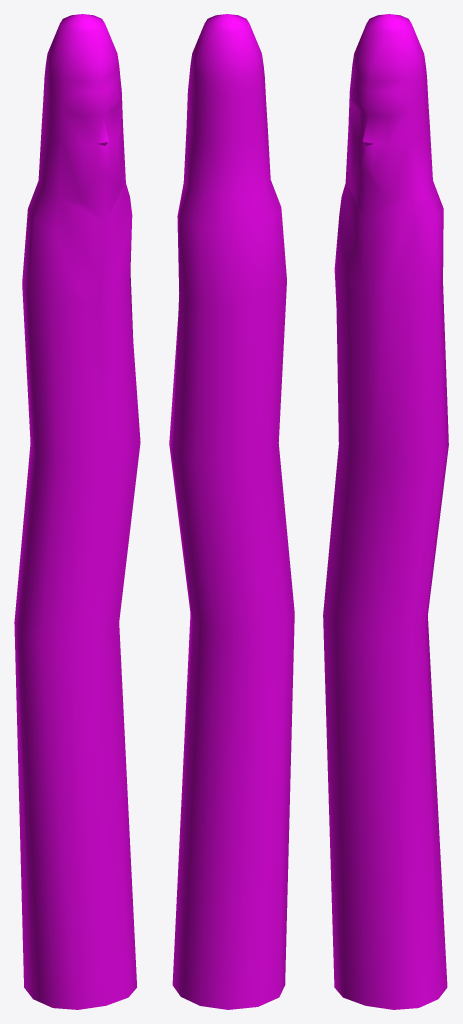
File: goth_cult_statue.glb
3 renders of one model, left to right at view 1: azimuth 30°, elevation 25°; view 2: azimuth 210°, elevation 25°; view 3: azimuth 330°, elevation 25°, orthographic.
Visible parts, largest first — view 1: Gaul_CultStatue_LP_001-mesh; view 2: Gaul_CultStatue_LP_001-mesh; view 3: Gaul_CultStatue_LP_001-mesh.
Boxes of the visible parts, box(x1,y1,x2,y2) form: Gaul_CultStatue_LP_001-mesh: box(14, 14, 140, 1009); Gaul_CultStatue_LP_001-mesh: box(169, 14, 294, 1009); Gaul_CultStatue_LP_001-mesh: box(323, 14, 448, 1009).
Size of the model in its own units: 2.07 by 16.33 by 1.74.
